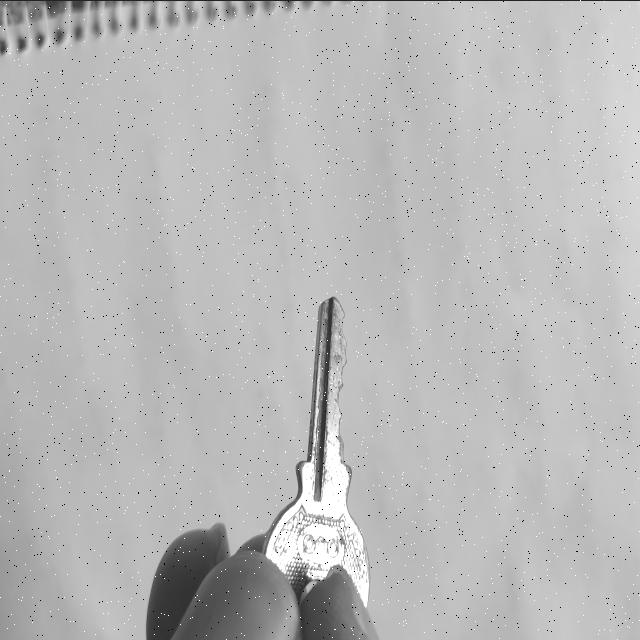key: (263, 297, 370, 606)
